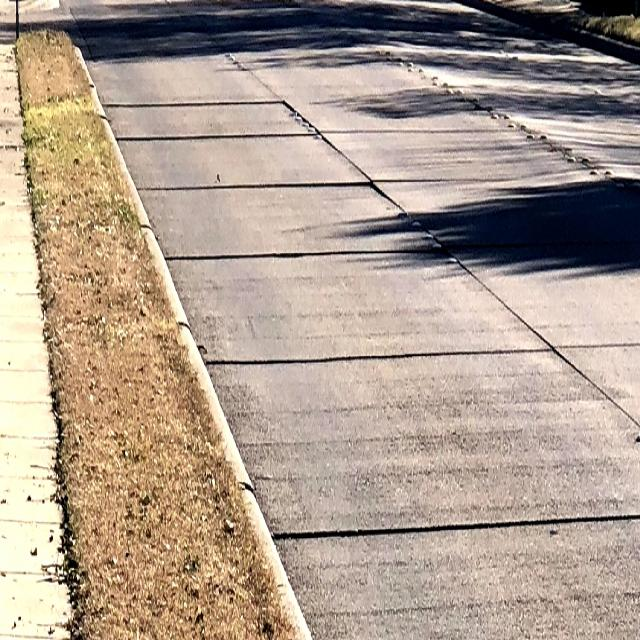Pothole: (12, 8, 569, 640)
